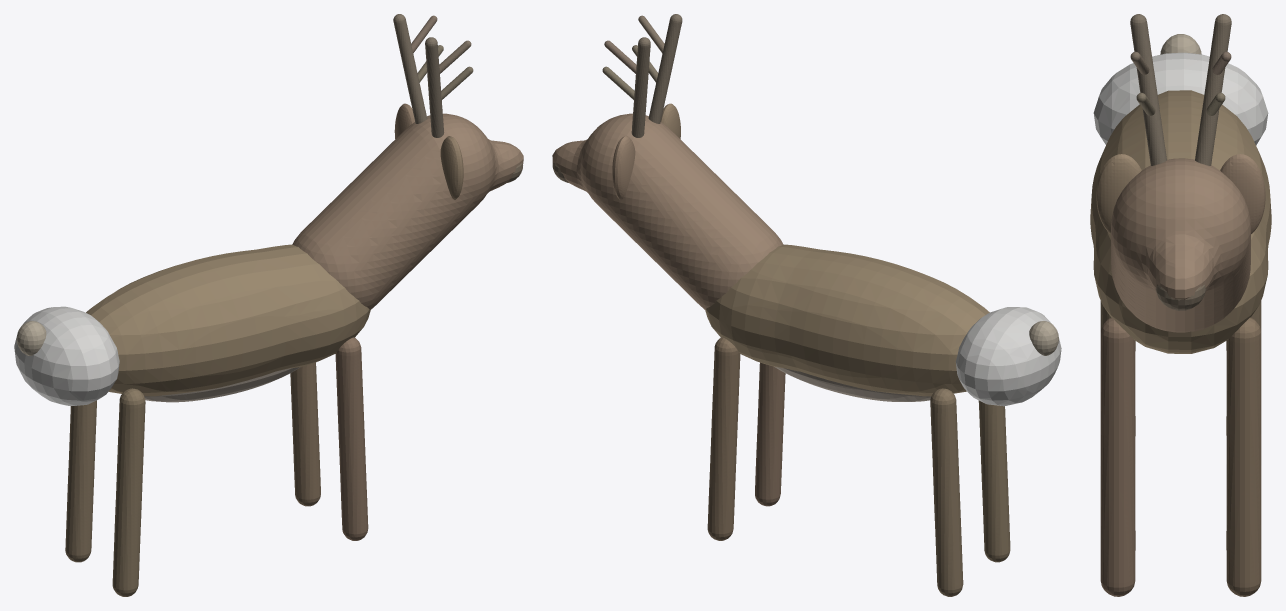
The model's file is deer.glb.
3 views of the same model, side by side, from view 1: azimuth 30°, elevation 25°; view 2: azimuth 150°, elevation 25°; view 3: azimuth 270°, elevation 25° (orthographic). The views are drawn at different scales.
Visible parts, largest first — view 1: body|barrel, head|neckHead, body|rump, legRR|leg, legFR|leg, legRL|leg, legFL|leg, head|antler-1, body|belly, head|antler1, earR|ear, tail|stub; view 2: body|barrel, head|neckHead, body|rump, legRL|leg, legFL|leg, legRR|leg, legFR|leg, head|antler1, body|belly, head|antler-1, earL|ear, tail|stub; view 3: head|neckHead, body|barrel, legFL|leg, legFR|leg, body|rump, head|antler-1, head|antler1, earL|ear, earR|ear, head|nose, tail|stub, head|tine-10.7 (+3 smaller).
Part boxes in pixels (box(x1,y1,x2,y2)): body|barrel: box(86, 244, 370, 396); head|neckHead: box(292, 113, 523, 310); body|rump: box(14, 306, 119, 405); legRR|leg: box(112, 388, 145, 596); legFR|leg: box(335, 337, 368, 540); legRL|leg: box(65, 400, 96, 562); legFL|leg: box(290, 362, 320, 506); head|antler-1: box(393, 14, 427, 123); body|belly: box(144, 367, 300, 402); head|antler1: box(425, 37, 444, 137); earR|ear: box(440, 136, 463, 199); tail|stub: box(16, 321, 46, 355); body|barrel: box(705, 244, 989, 396); head|neckHead: box(552, 113, 783, 310); body|rump: box(955, 307, 1061, 406); legRL|leg: box(930, 388, 963, 596); legFL|leg: box(707, 337, 740, 540); legRR|leg: box(978, 400, 1010, 562); legFR|leg: box(755, 362, 785, 506); head|antler1: box(648, 14, 682, 123); body|belly: box(774, 366, 931, 401); head|antler-1: box(631, 37, 650, 137); earL|ear: box(612, 136, 635, 199); tail|stub: box(1029, 321, 1058, 355); head|neckHead: box(1111, 158, 1250, 332); body|barrel: box(1090, 90, 1271, 353); legFL|leg: box(1226, 317, 1261, 596); legFR|leg: box(1100, 317, 1135, 596); body|rump: box(1093, 52, 1268, 145); head|antler-1: box(1195, 14, 1231, 165); head|antler1: box(1130, 14, 1166, 165); earL|ear: box(1220, 154, 1265, 233); earR|ear: box(1096, 154, 1141, 233); head|nose: box(1155, 284, 1206, 310); tail|stub: box(1160, 34, 1201, 54); head|tine-10.7: box(1212, 51, 1231, 74).
Size of the model in its own units: 2.75 by 2.48 by 0.6426.
